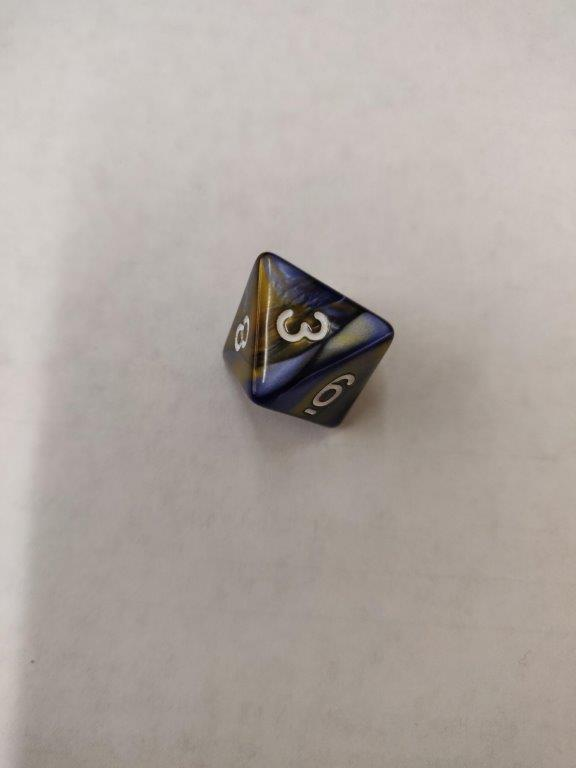d8-3: (218, 252, 393, 435)
